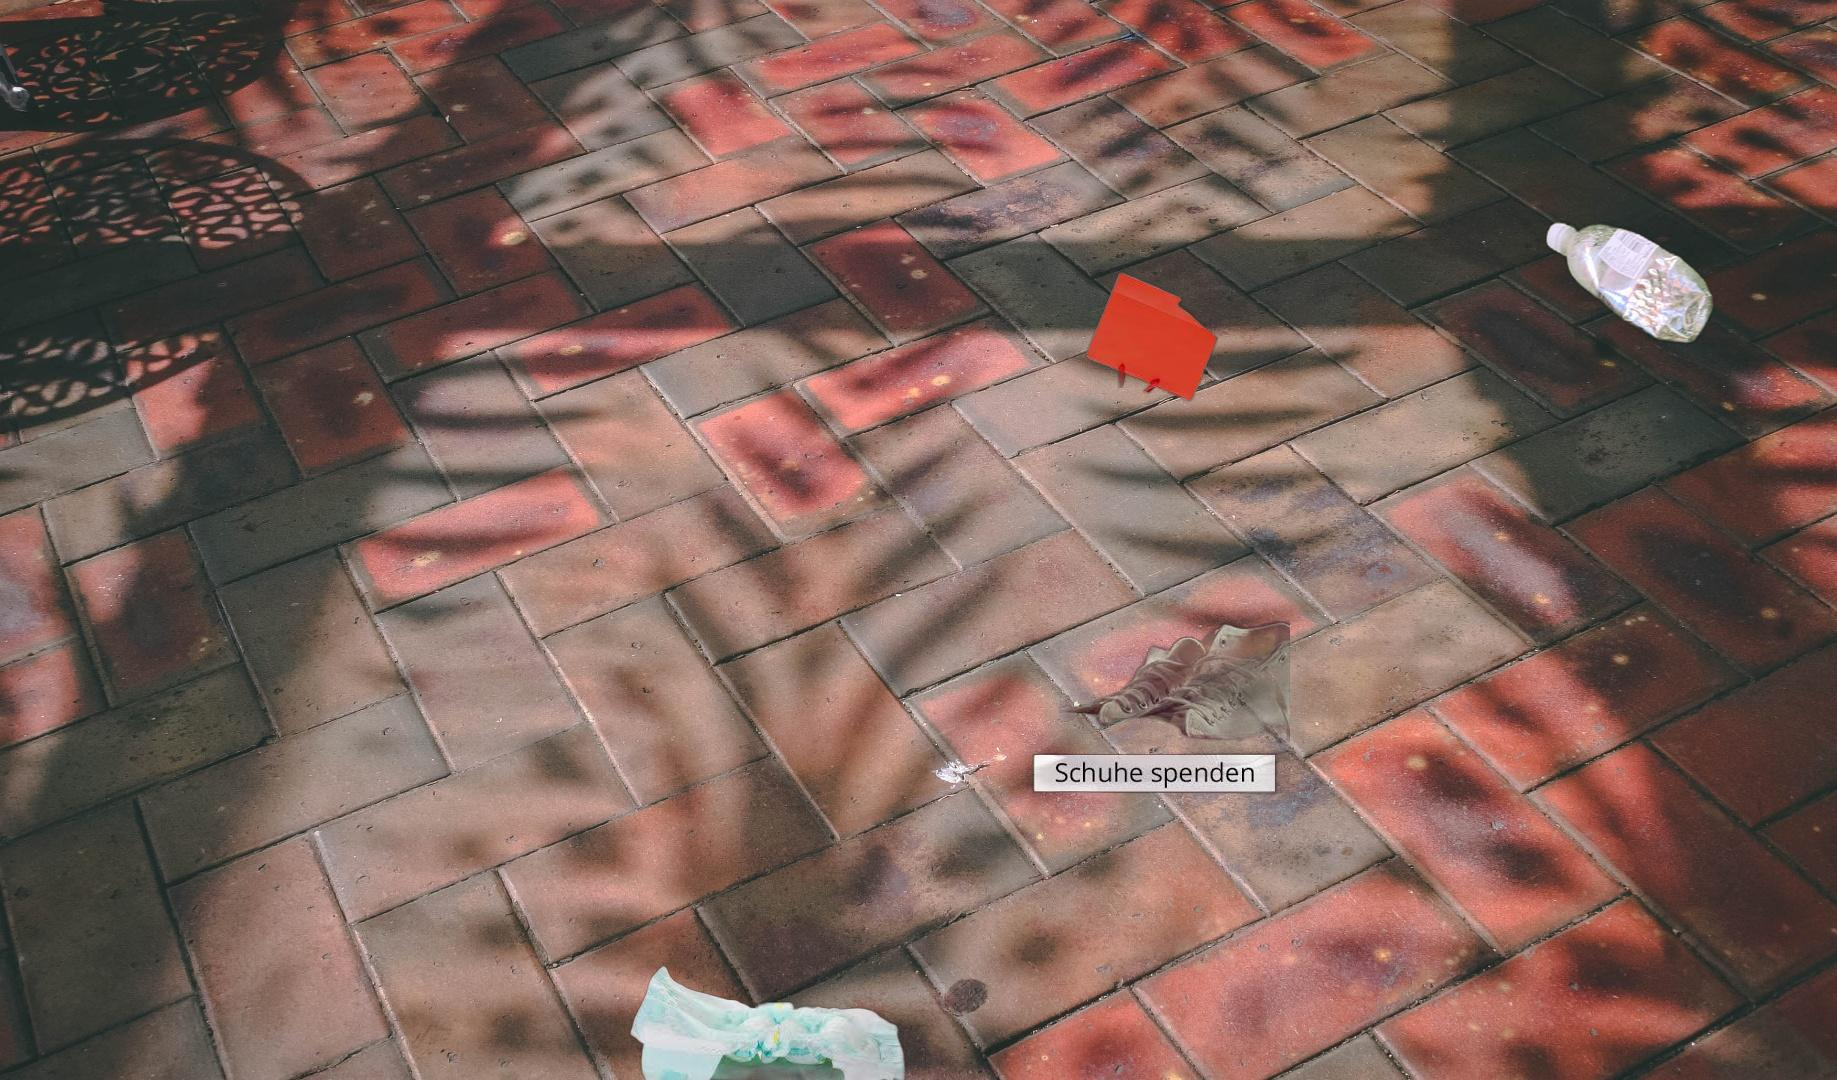paper-bag: (1081, 192, 1345, 433)
plastic-bottles: (1541, 216, 1719, 348)
shoes: (1026, 612, 1289, 798)
trash: (627, 963, 920, 1080)
